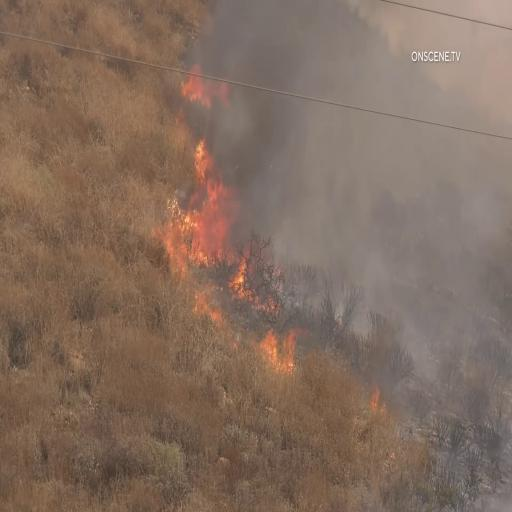fire: (154, 48, 250, 304)
smoke: (259, 8, 386, 266)
